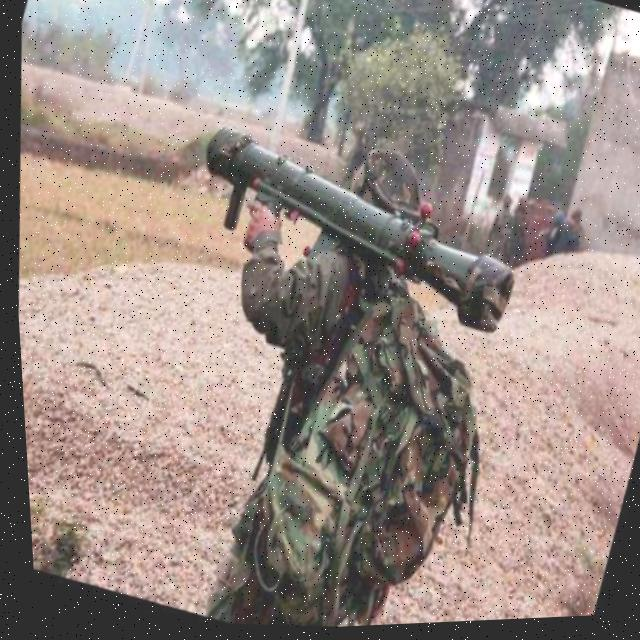rocket: (165, 103, 543, 358)
